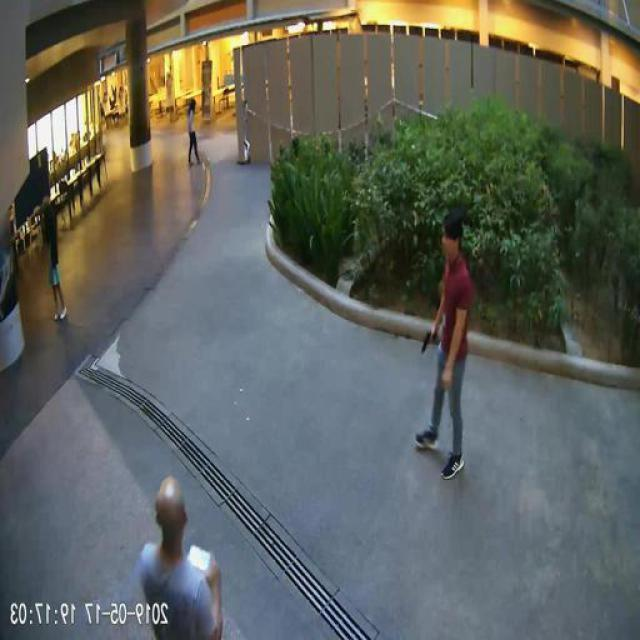weapon: (421, 332, 438, 354)
